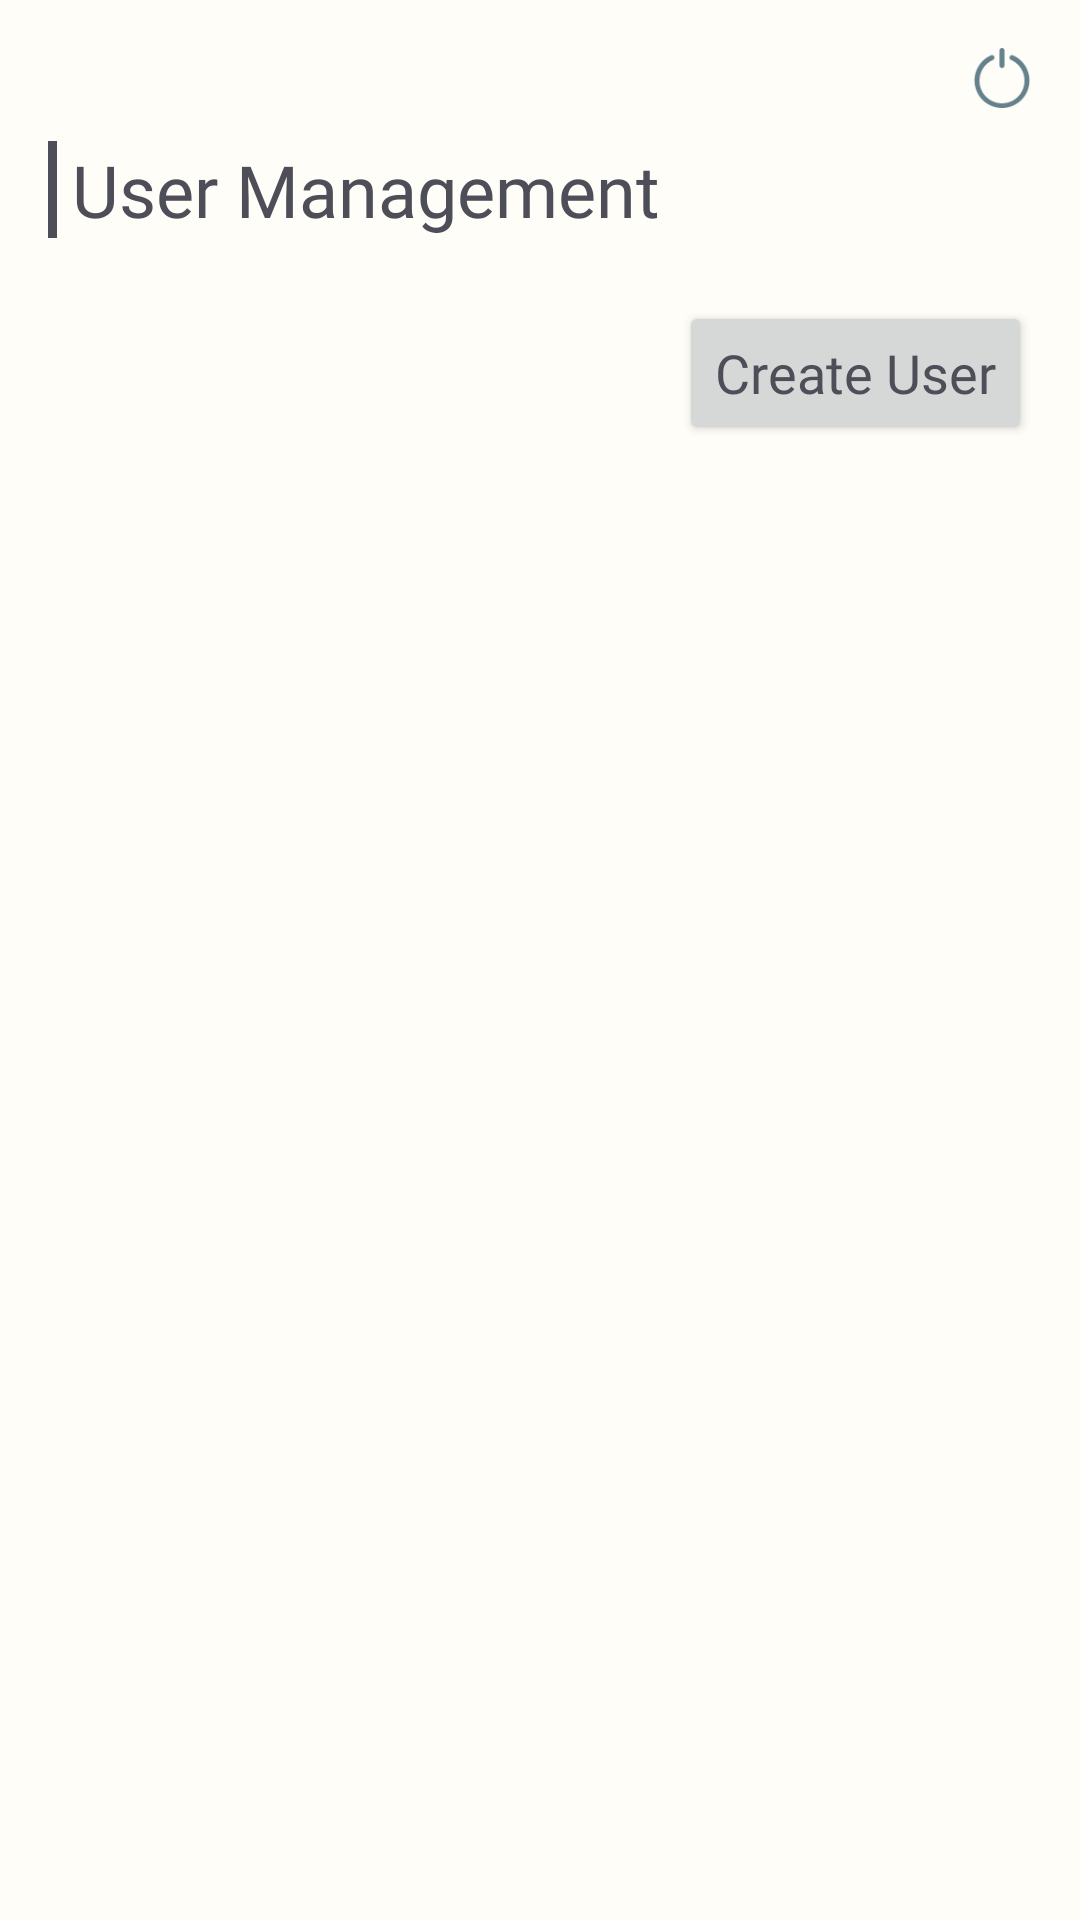

Icon click points for this 1080 x 1920 phone screenshot, format (x=x, y=y):
power: (x=1002, y=78)
